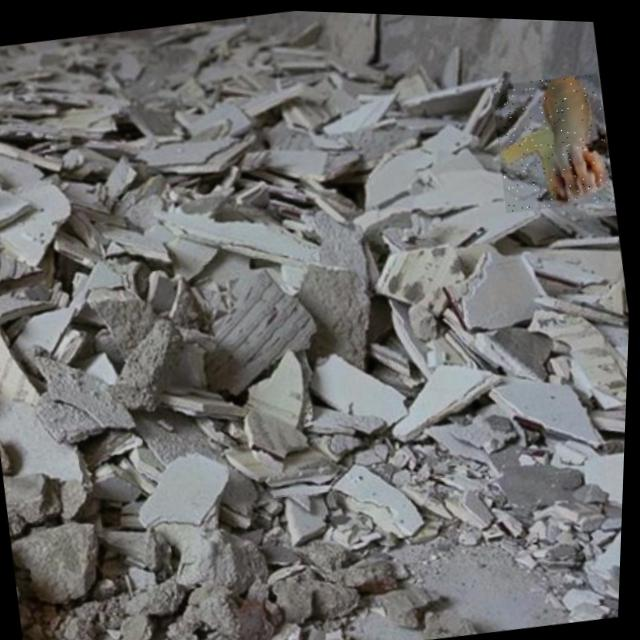Person in Rubble: (488, 65, 618, 212)
